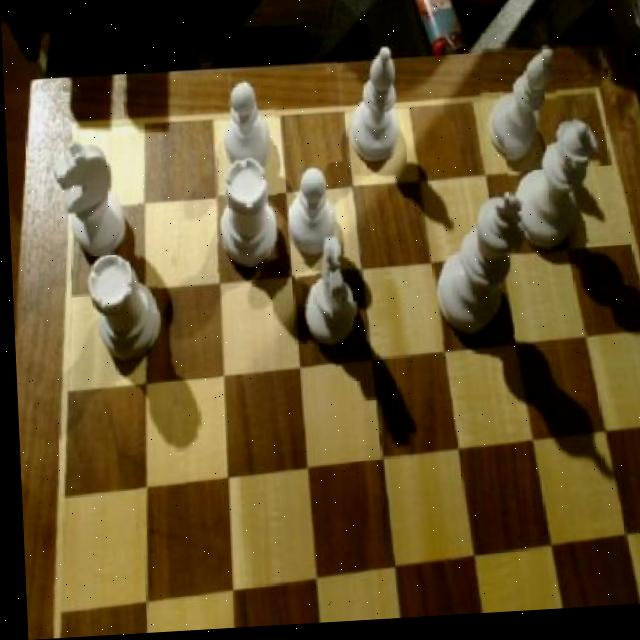black-rook: (475, 50, 557, 169), (340, 51, 408, 177)
white-bishop: (424, 195, 524, 346)
white-king: (40, 136, 137, 268), (291, 238, 358, 353)
white-knight: (213, 83, 276, 182), (280, 172, 339, 266)
white-pawn: (503, 128, 604, 261)
white-queen: (83, 255, 158, 373), (211, 160, 278, 279)
